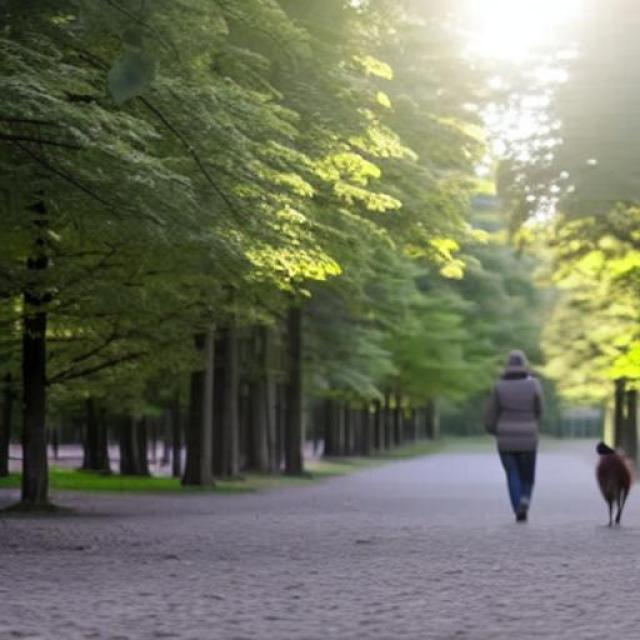Unleashed_Dog: (510, 427, 633, 529)
